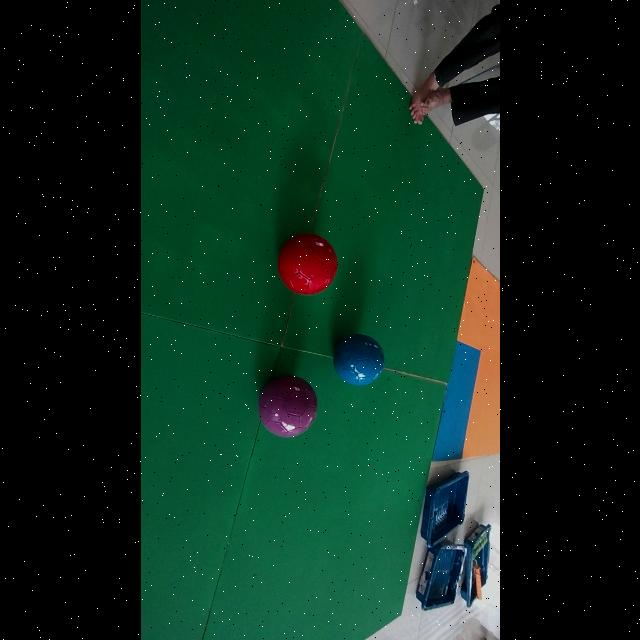B: (334, 335, 384, 385)
P: (259, 376, 317, 438)
R: (278, 233, 338, 295)
